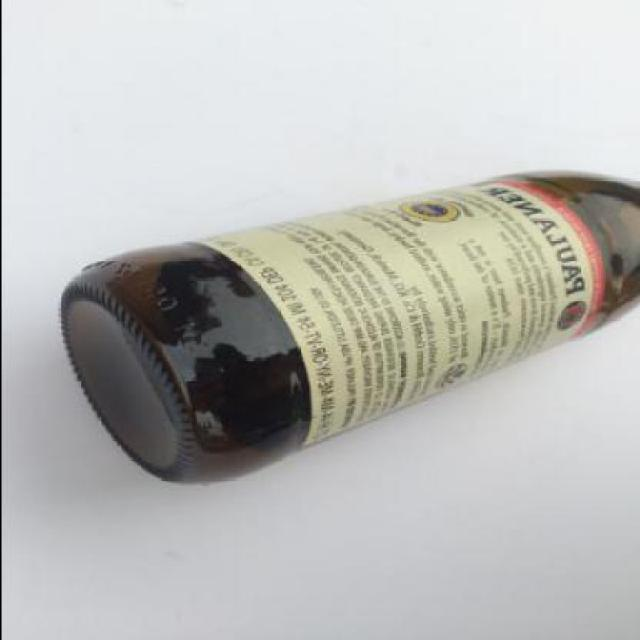glass: (56, 172, 638, 485)
